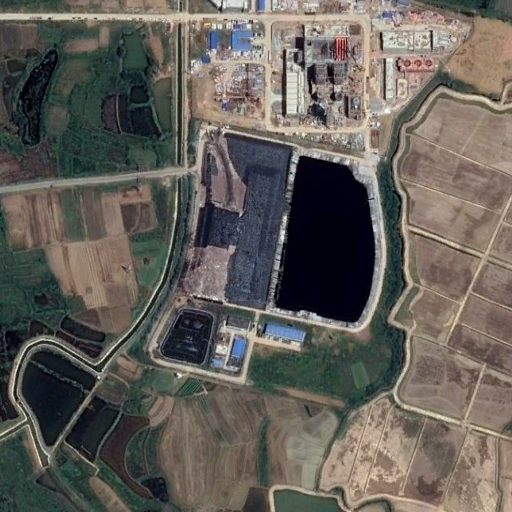lf: (188, 127, 382, 329)
